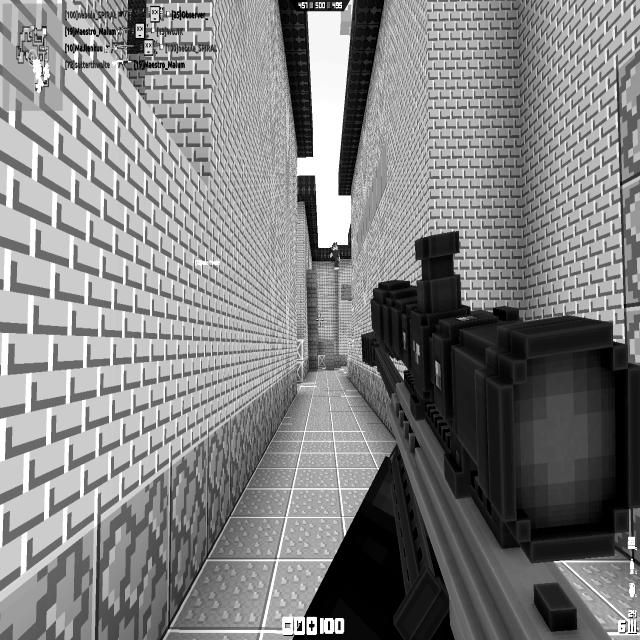Head: (331, 241, 338, 251)
Player: (329, 241, 341, 269)
